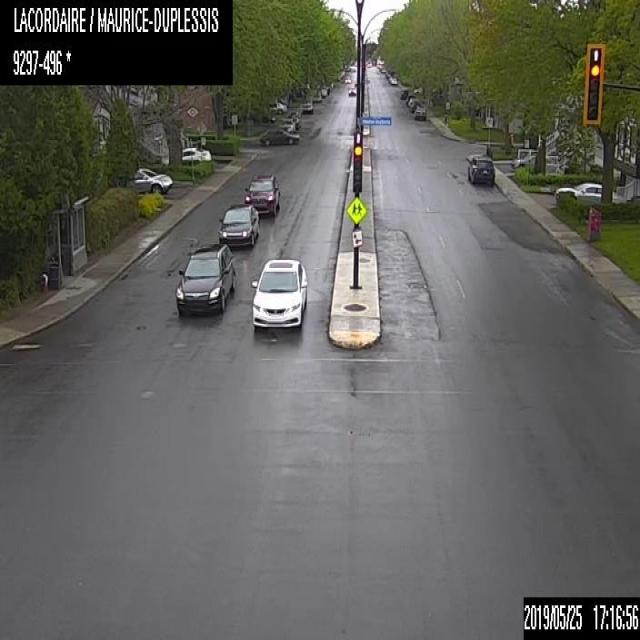vehicle: (177, 242, 236, 315), (250, 256, 306, 328), (217, 202, 260, 245), (555, 180, 622, 207), (244, 173, 282, 216), (127, 167, 171, 192), (464, 152, 496, 184), (258, 125, 299, 145), (510, 150, 547, 167), (180, 146, 211, 162), (280, 117, 296, 131), (413, 106, 428, 120), (269, 101, 286, 113), (288, 110, 301, 124), (409, 98, 422, 111), (301, 100, 313, 112), (399, 88, 409, 98), (311, 92, 320, 101), (348, 86, 355, 95), (389, 77, 396, 84), (344, 76, 350, 82)
